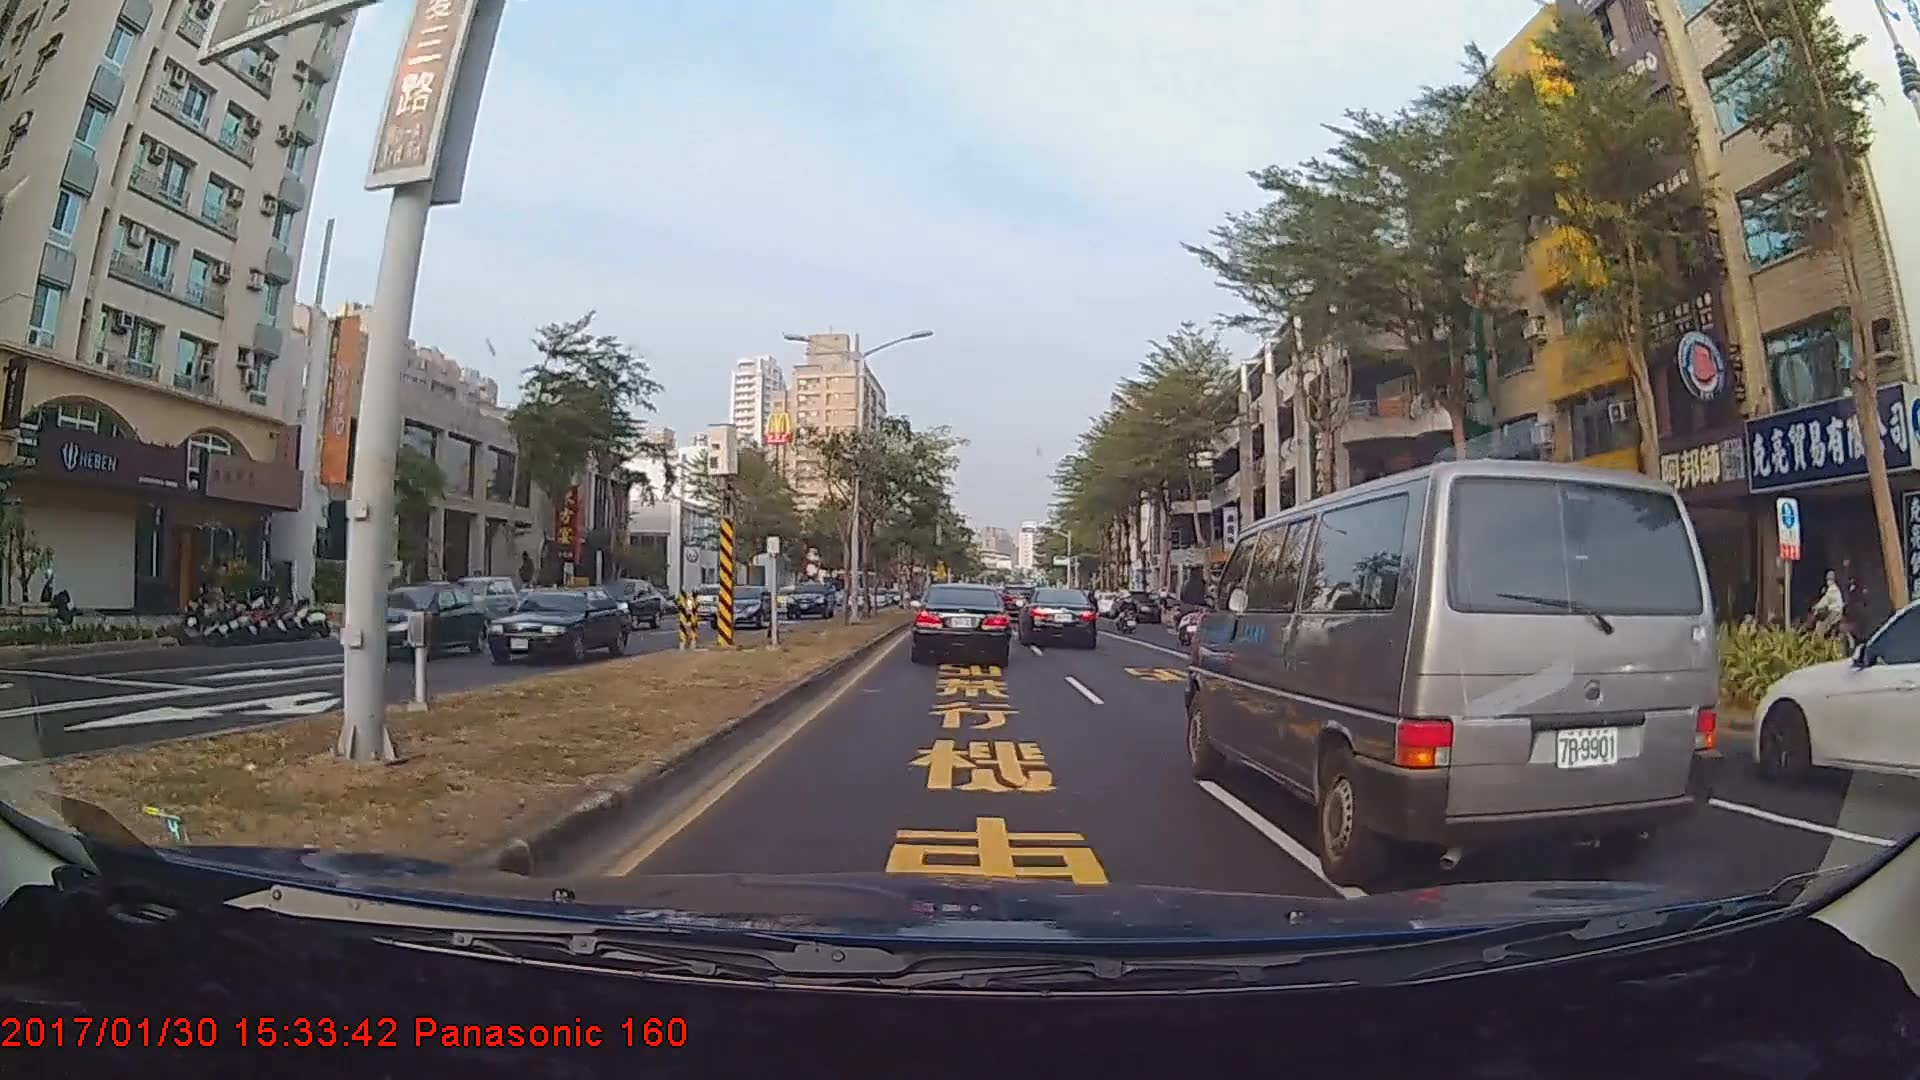vehicle: (1193, 450, 1713, 873), (1750, 584, 1919, 808), (477, 582, 632, 666), (342, 582, 493, 661), (911, 583, 1011, 667), (1018, 585, 1098, 649), (580, 575, 662, 630), (440, 574, 518, 624), (705, 582, 771, 626), (680, 580, 733, 618), (785, 578, 831, 615)
